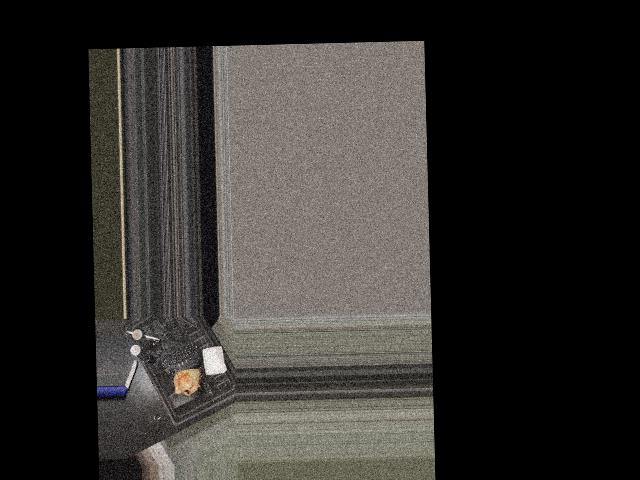onion: (172, 365, 202, 395)
